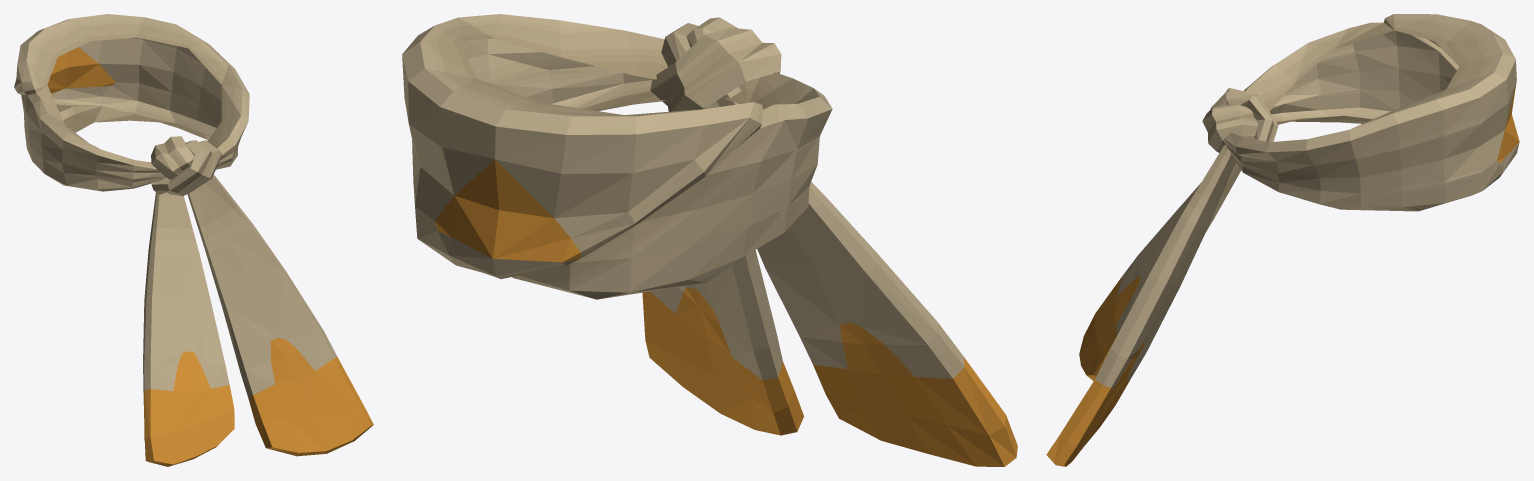
File: CharSkyKid_Mask_AP19Blindfold.glb
3 renders of one model, left to right at view 1: azimuth 30°, elevation 25°; view 2: azimuth 150°, elevation 25°; view 3: azimuth 270°, elevation 25°, orthographic. The views are drawn at different scales.
Parts seen in each view (by area): view 1: CharSkyKid_Mask_AP19Blindfold; view 2: CharSkyKid_Mask_AP19Blindfold; view 3: CharSkyKid_Mask_AP19Blindfold.
Boxes of the visible parts, x1,y1,x2,y2 form: CharSkyKid_Mask_AP19Blindfold: (14,14,373,466); CharSkyKid_Mask_AP19Blindfold: (402,14,1017,466); CharSkyKid_Mask_AP19Blindfold: (1046,14,1519,466).
Bounding box in the file's own units: 2.72 × 3.9 × 4.51.
Materials: 1 (1 with a texture image).
